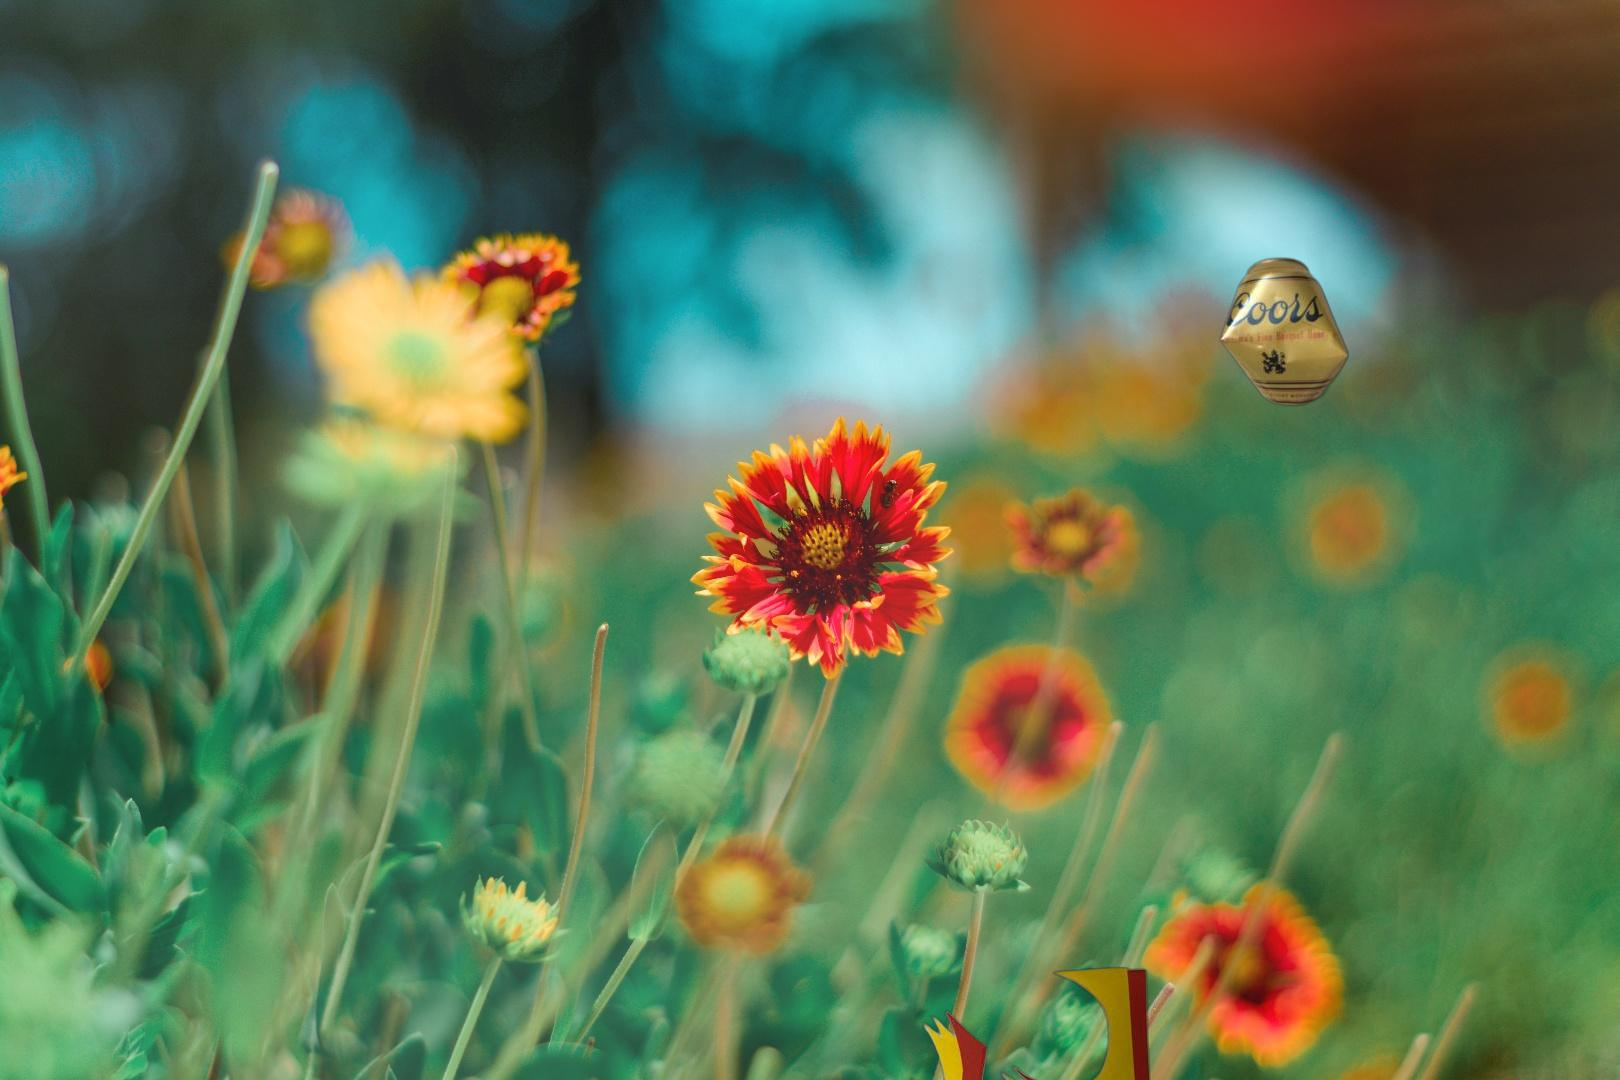metal-cans: (1215, 256, 1352, 410)
paper: (863, 965, 1158, 1080)
